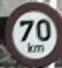Speed limit: (4, 2, 55, 62)
